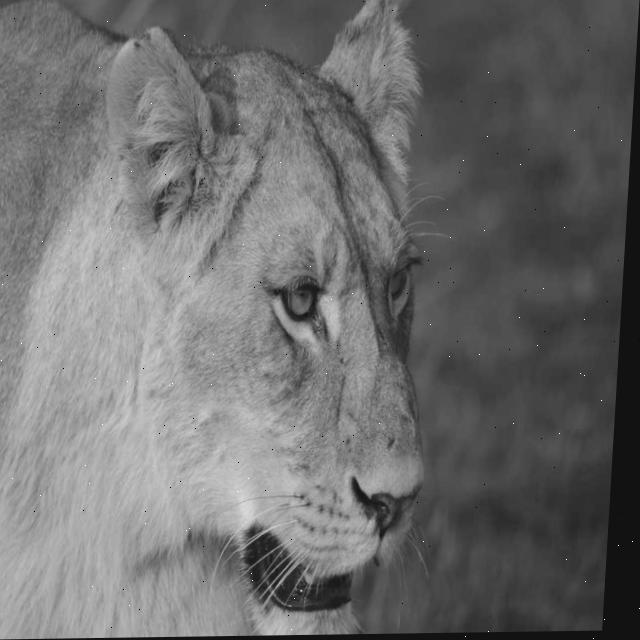Lion: (0, 24, 566, 640)
